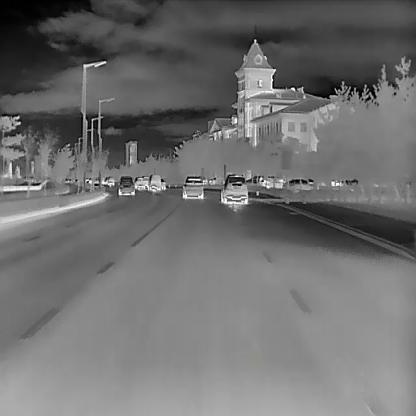car: (220, 172, 248, 203), (181, 174, 203, 198), (283, 177, 313, 190), (118, 174, 134, 195), (147, 173, 160, 189), (133, 176, 144, 189), (107, 174, 114, 184), (160, 176, 165, 188)
